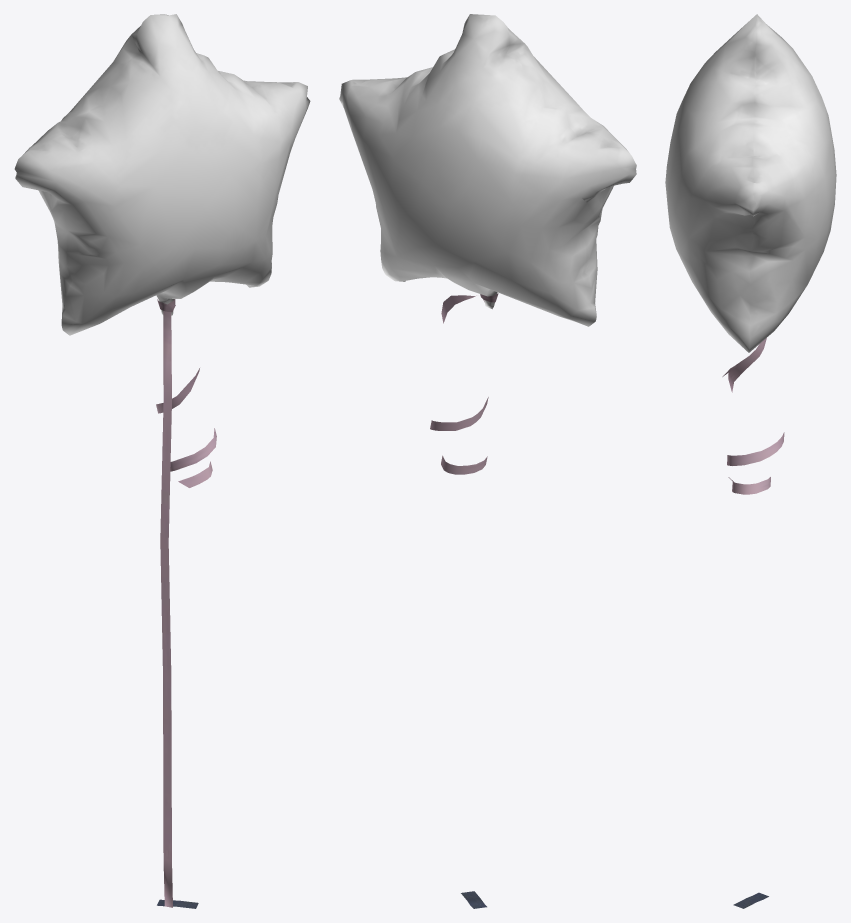
The model's file is star_balloon.deployed.glb.
3 renders of one model, left to right at view 1: azimuth 30°, elevation 25°; view 2: azimuth 150°, elevation 25°; view 3: azimuth 270°, elevation 25°, orthographic. The views are drawn at different scales.
Parts seen in each view (by area): view 1: star_balloon_LOD0; view 2: star_balloon_LOD0; view 3: star_balloon_LOD0.
Boxes of the visible parts, <box> form: star_balloon_LOD0: <box>14,14,310,908</box>; star_balloon_LOD0: <box>339,14,636,908</box>; star_balloon_LOD0: <box>665,14,836,908</box>.
Bounding box in the file's own units: 0.6262 × 1.8 × 0.3191.
Materials: 1 (1 with a texture image).
